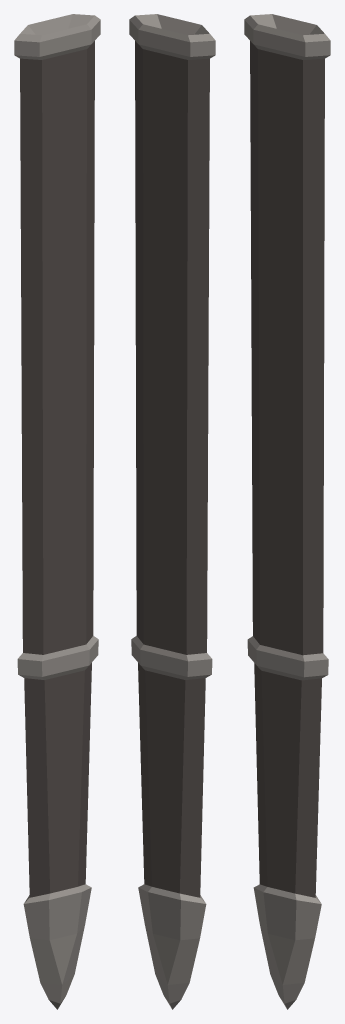
The model's file is SM_pwe_medieval_sword_scabbard_03.fbx.
3 renders of one model, left to right at view 1: azimuth 30°, elevation 25°; view 2: azimuth 150°, elevation 25°; view 3: azimuth 330°, elevation 25°, orthographic.
Parts seen in each view (by area): view 1: SM_pwe_medieval_sword_scabbard_03; view 2: SM_pwe_medieval_sword_scabbard_03; view 3: SM_pwe_medieval_sword_scabbard_03.
Part boxes in pixels (x1,y1,x2,y2): SM_pwe_medieval_sword_scabbard_03: (14,14,100,1009); SM_pwe_medieval_sword_scabbard_03: (129,14,215,1009); SM_pwe_medieval_sword_scabbard_03: (244,14,330,1009).
Bounding box in the file's own units: 7.95 × 86.47 × 2.58.
